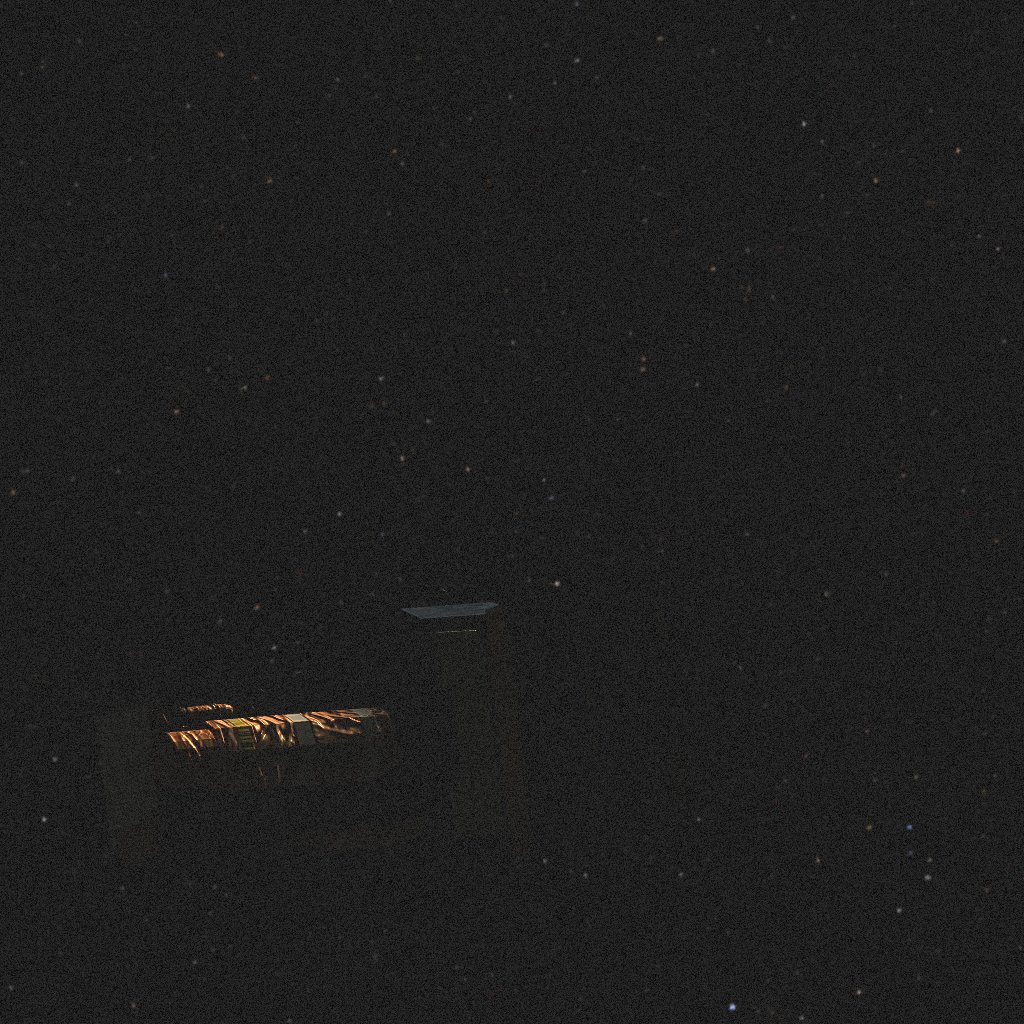soho: (97, 560, 688, 913)
